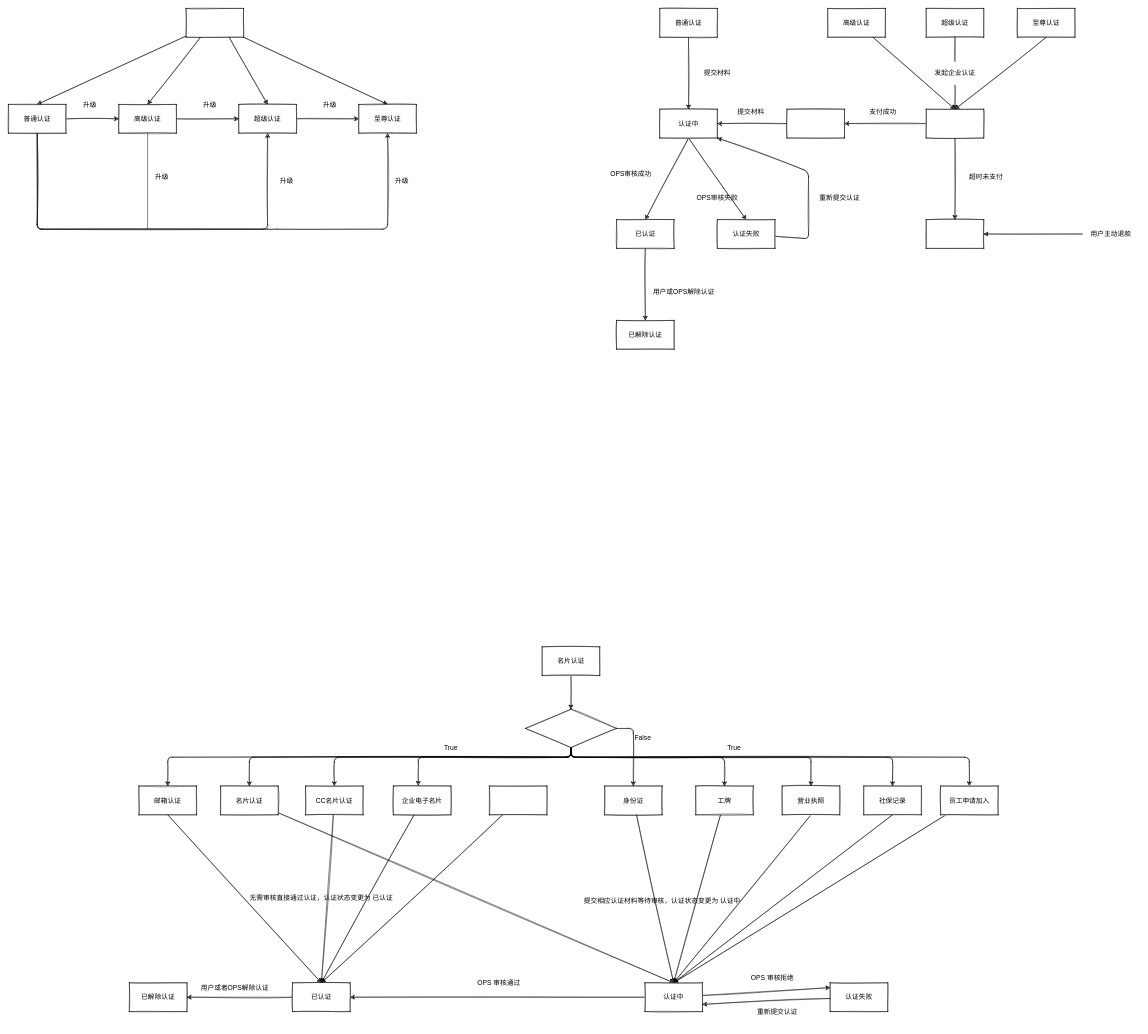
The diagram is 1148 pixels wide and 1034 high, and some of its shapes have lost their labels. The centre of each missing label's shape, as x and y in pixels:
"企业认证" goes at [215,22].
"已取消" goes at [955,233].
"待支付" goes at [955,123].
"待认证" goes at [815,123].
"管理员添加员工 （并非用户主动申请，特殊）" goes at [518,800].
"角色是否是员工" goes at [571,728].
